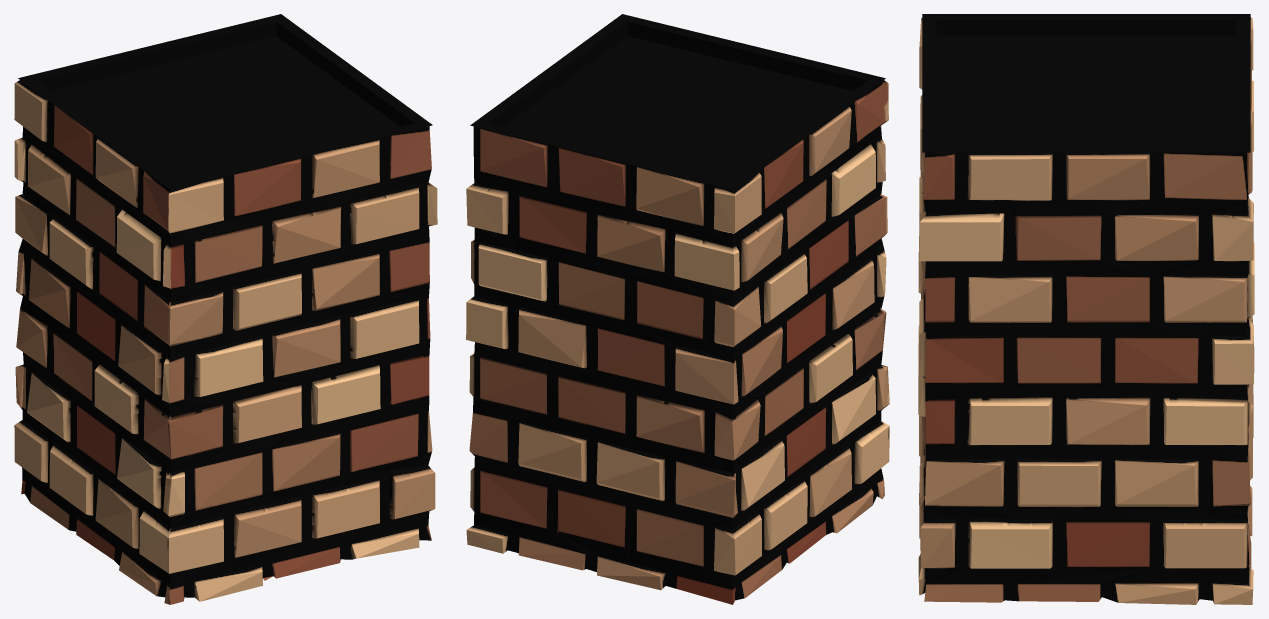
Rendered from BrickWall4Side.glb.
3 views of the same model, side by side, from view 1: azimuth 30°, elevation 25°; view 2: azimuth 150°, elevation 25°; view 3: azimuth 270°, elevation 25° (orthographic). The views are drawn at different scales.
Parts seen in each view (by area): view 1: 4SideBrickWall; view 2: 4SideBrickWall; view 3: 4SideBrickWall.
Boxes of the visible parts, x1,y1,x2,y2 form: 4SideBrickWall: (14,14,437,604); 4SideBrickWall: (466,14,889,604); 4SideBrickWall: (918,14,1254,604).
Bounding box in the file's own units: 2.05 × 3.04 × 2.05.
1 material, 1 textured.
